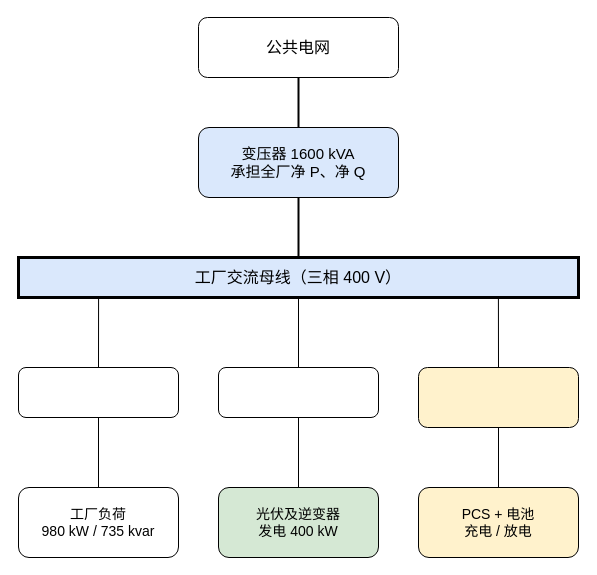
The diagram is 597 pixels wide and 575 high, and some of its shapes have lost their labels. Here are the shapes that lost their labels. From the top down, the centre of each, then its label:
At point (98, 392): "负荷支路开关".
At point (298, 392): "光伏支路开关".
At point (498, 397): "储能支路开关及线路 持续电流限值：800 A".
